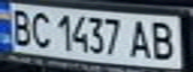1: (51, 11, 72, 52)
3: (84, 13, 106, 55)
4: (69, 12, 87, 53)
7: (103, 15, 127, 56)
A: (124, 17, 157, 60)
B: (145, 18, 181, 61), (6, 6, 36, 47)
C: (27, 9, 54, 48)
